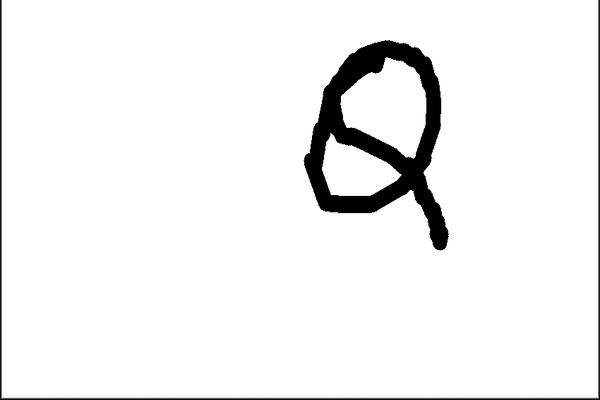Q: (299, 29, 456, 254)
